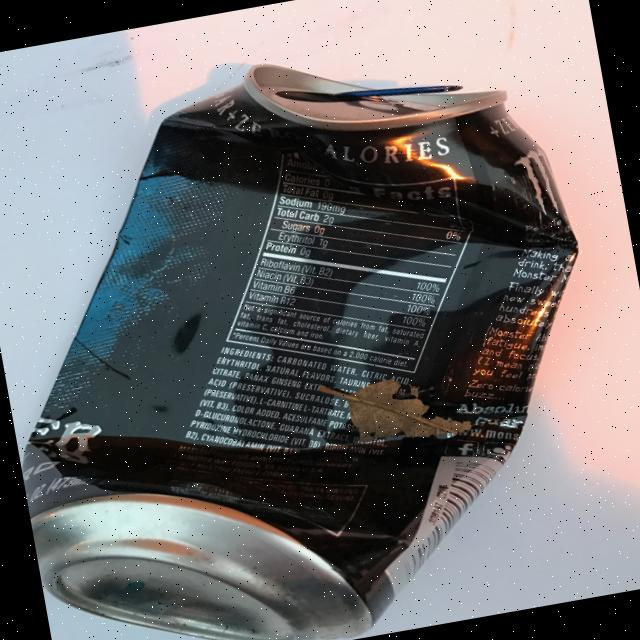metal: (0, 13, 639, 640)
